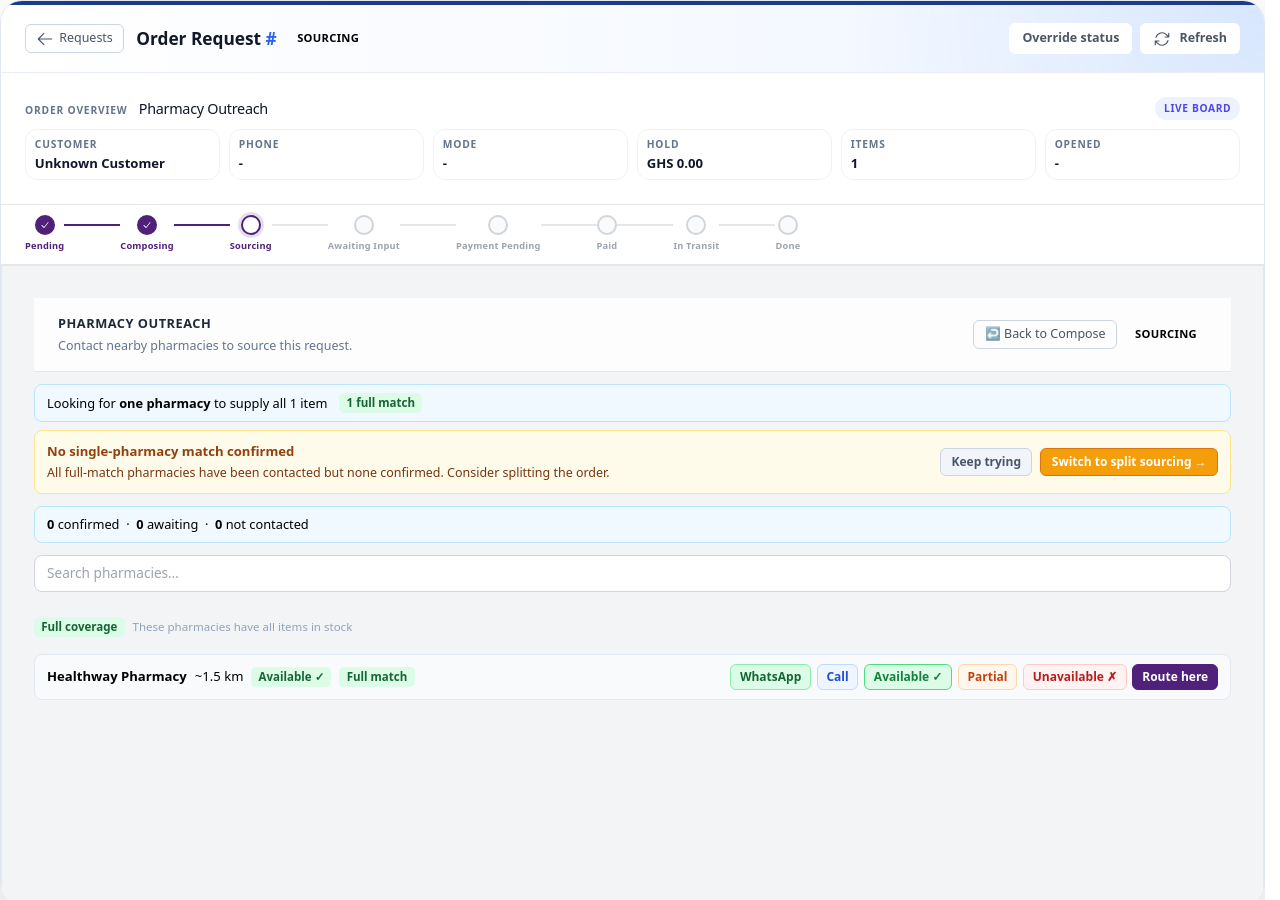
Scenario: order requests: routing items to a pharmacy › asks first, then sends the covered items with their match and distance
Click the button "Route here". click: (1175, 677)
box: [1132,664,1218,690]
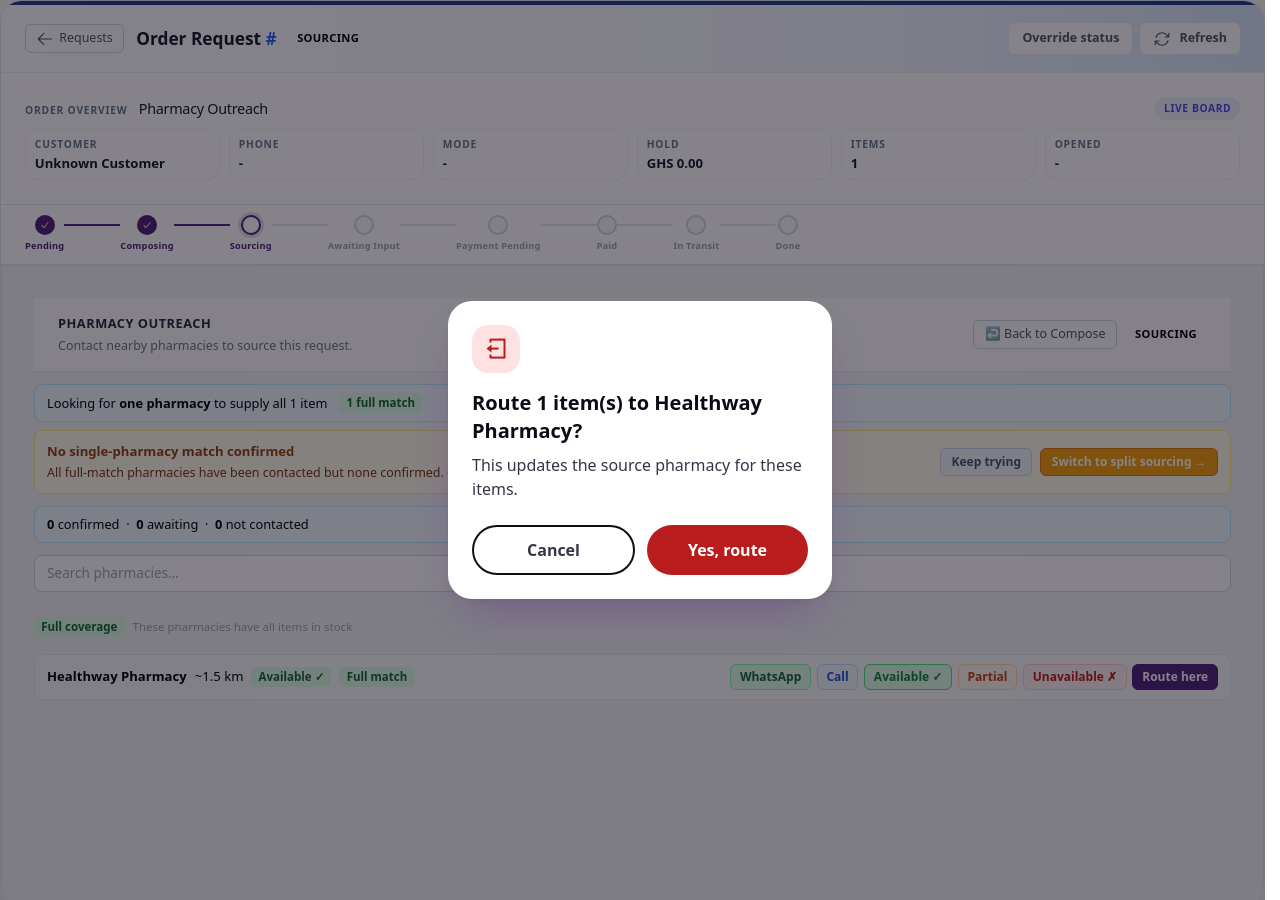
Now the dialog shows "Route 1 item(s) to Healthway Pharmacy?", box [472,389,762,444]
Click the button "Yes, route". click: (728, 550)
box: [647,525,808,575]
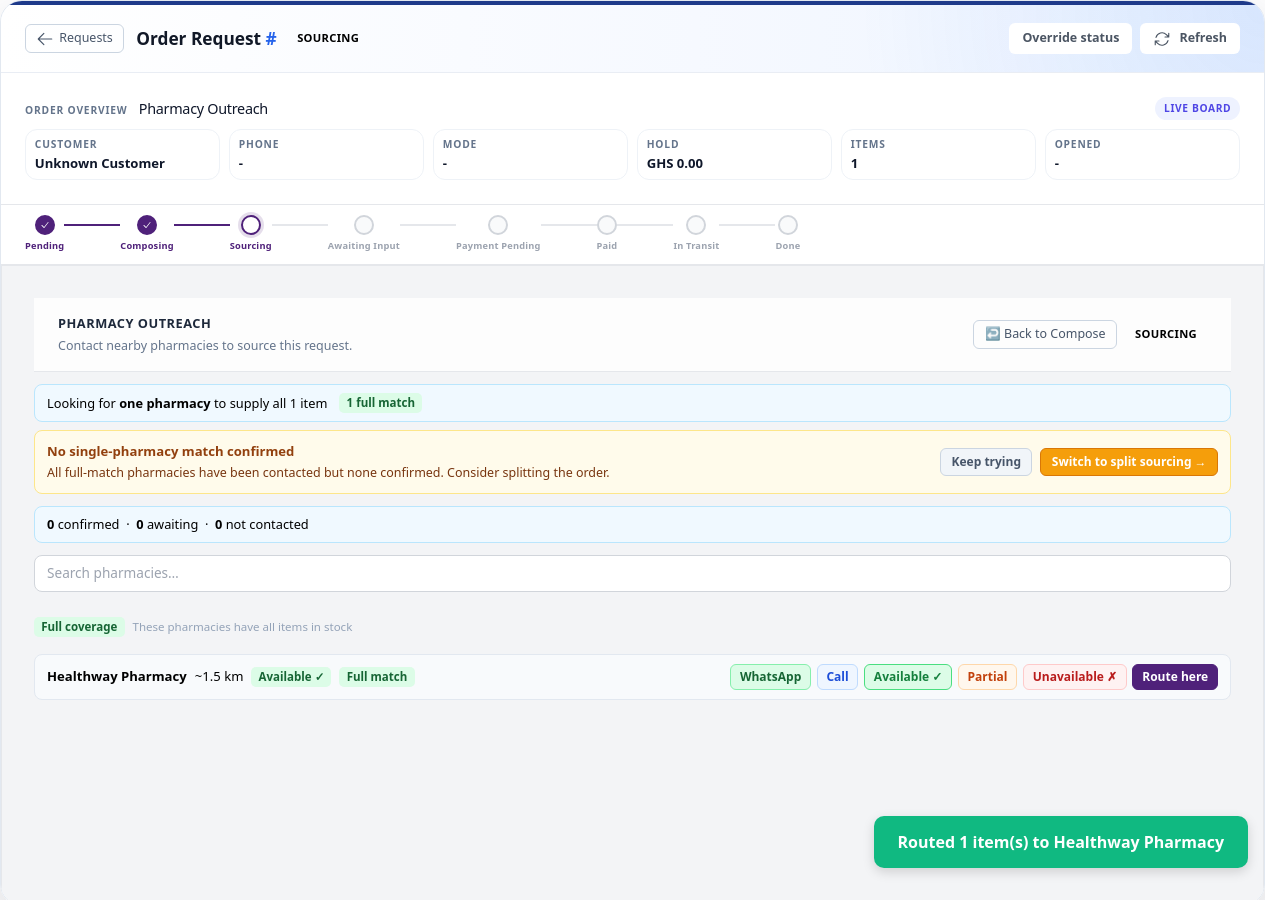
Now the text "Routed 1 item(s) to Healthway Pharmacy" is shown, box [874,816,1248,868]
